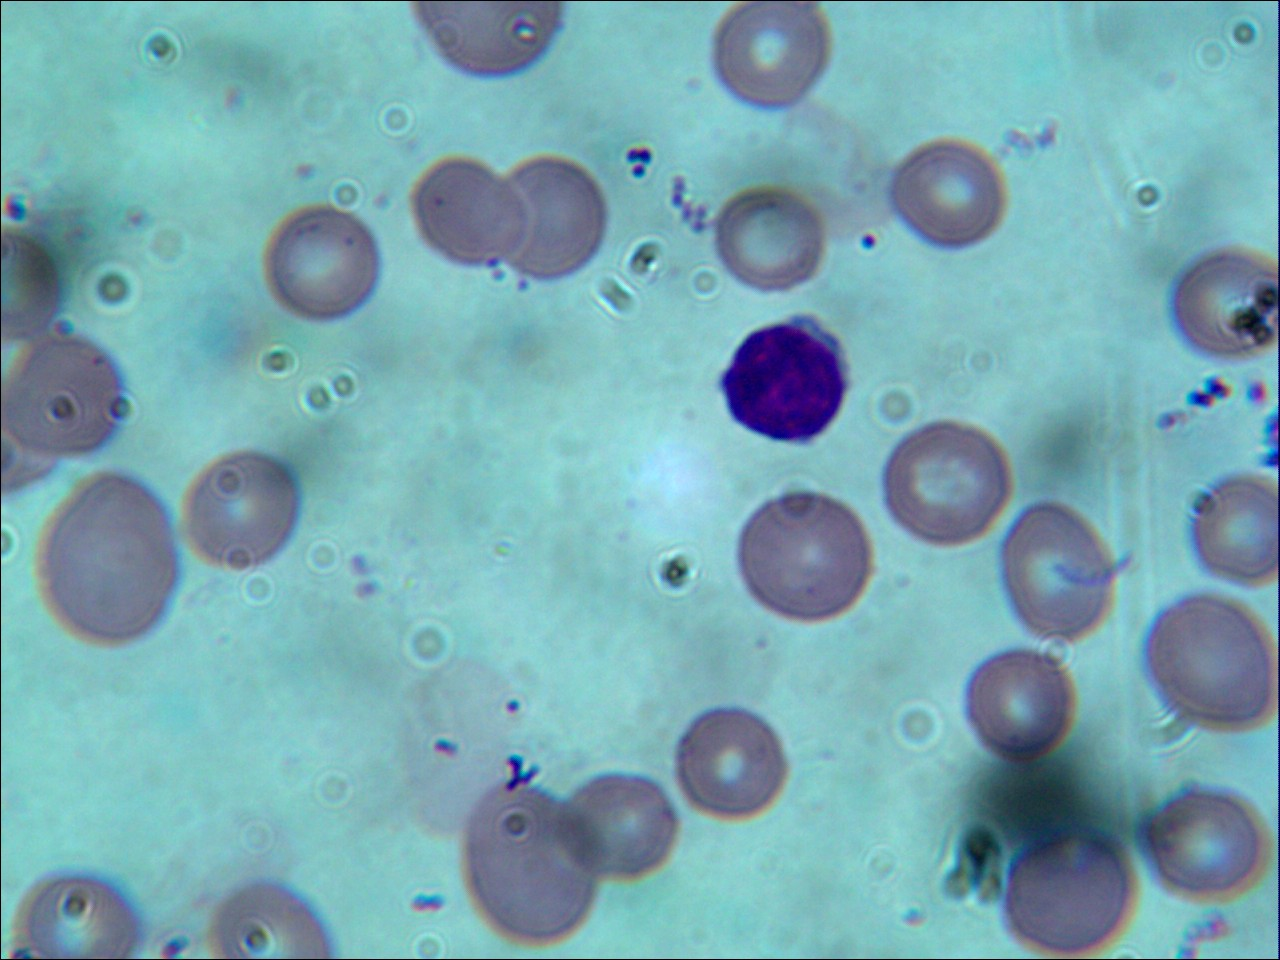Eritrosit: (33, 474, 180, 655), (471, 783, 596, 947), (875, 414, 1020, 553), (1137, 592, 1280, 727), (999, 831, 1142, 960), (999, 499, 1121, 650), (734, 492, 873, 624), (258, 202, 386, 325), (175, 446, 298, 571), (406, 149, 528, 274), (959, 640, 1075, 768), (706, 1, 831, 115), (496, 158, 606, 286), (708, 187, 831, 296), (1, 342, 127, 450), (890, 136, 1005, 253), (567, 769, 681, 884), (1153, 781, 1265, 897), (675, 706, 787, 821), (1165, 249, 1280, 361), (11, 872, 150, 960), (1192, 465, 1280, 587), (203, 877, 330, 960)
Limfosit: (720, 314, 852, 447)
Platelet: (406, 887, 446, 921), (1, 186, 31, 225), (1199, 371, 1234, 405), (496, 693, 533, 724), (1243, 375, 1275, 408), (217, 84, 248, 118), (852, 224, 883, 255), (340, 549, 374, 577), (123, 203, 153, 234), (1189, 384, 1217, 417), (156, 934, 190, 960), (371, 184, 399, 215), (349, 581, 381, 606), (290, 156, 317, 184), (848, 172, 874, 200), (678, 69, 705, 94), (1155, 409, 1180, 433), (628, 164, 652, 187), (481, 250, 503, 271), (634, 143, 655, 164), (492, 271, 509, 293), (514, 277, 528, 297), (627, 144, 642, 159)
